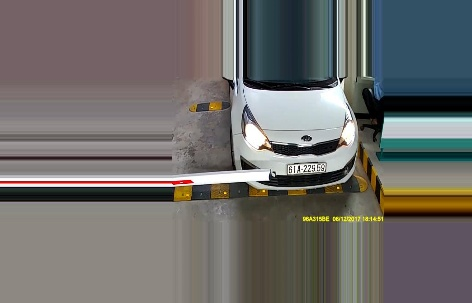plate: (286, 160, 328, 174)
